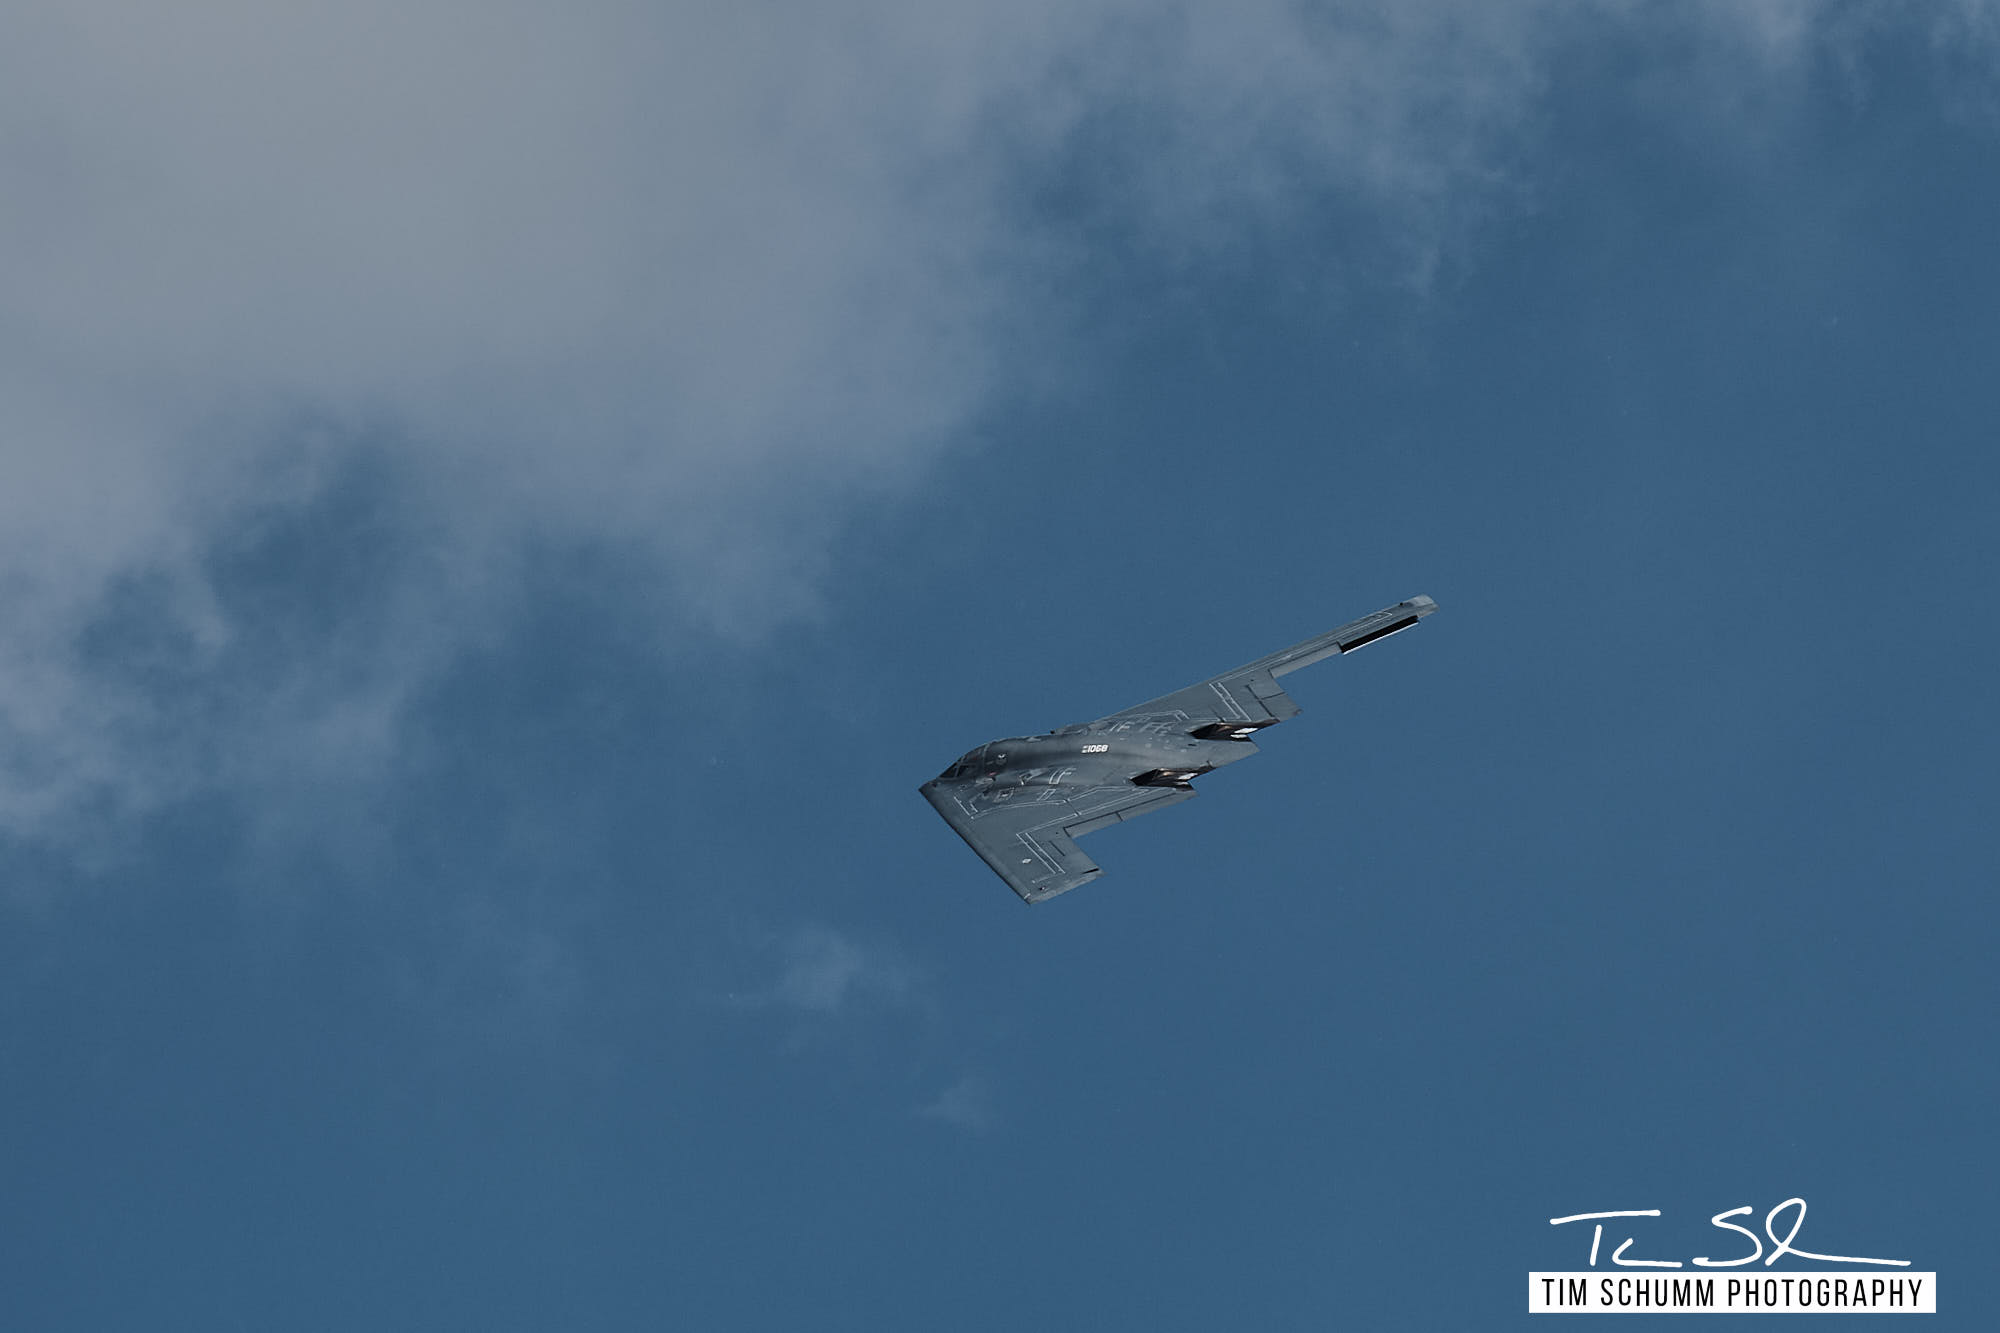B2: (917, 594, 1439, 908)
